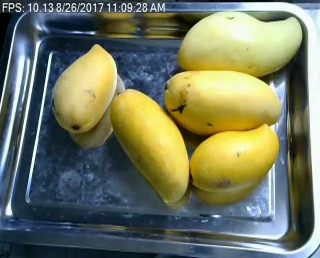Mango: (109, 89, 191, 195), (175, 9, 305, 74), (163, 69, 283, 131), (48, 41, 117, 135), (193, 122, 281, 191)
